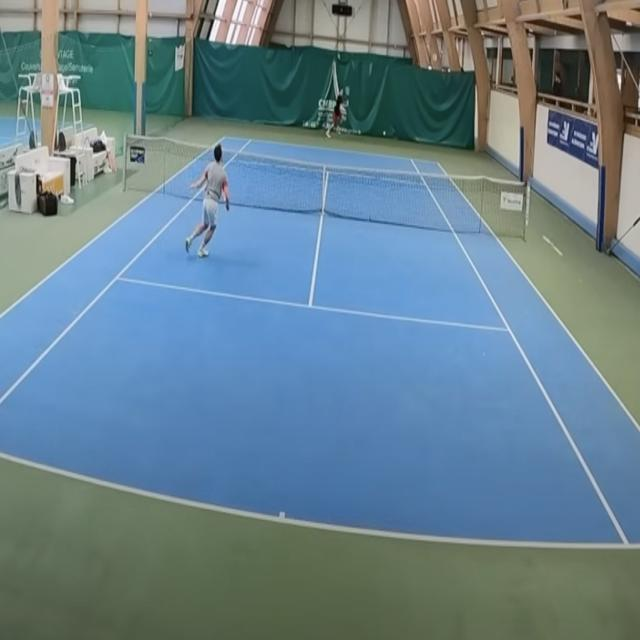ball: (383, 131, 386, 136)
